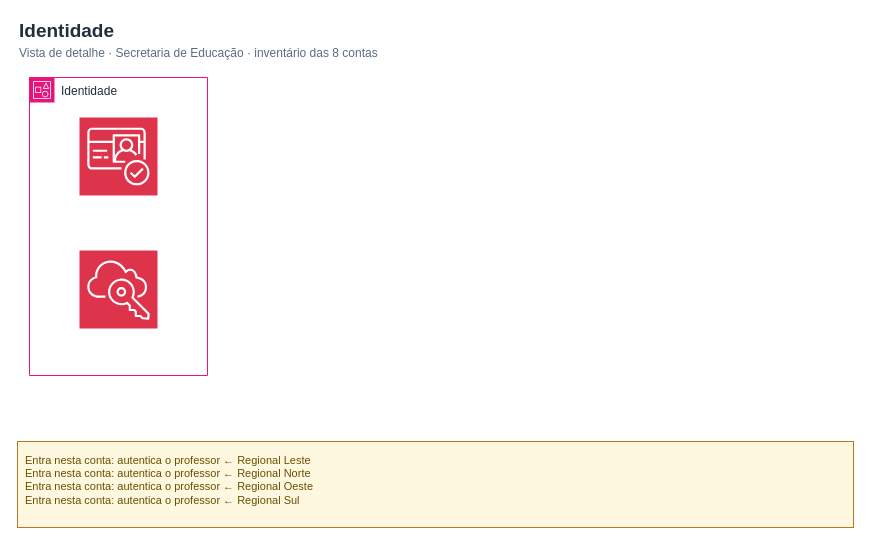
Some shapes in this 871 by 545 pixel diagram are drawn without their labels. Each missing label, with the centre of its shape:
"Cognito · portal do aluno" belongs at (x=118, y=156).
"IAM Identity Center" belongs at (x=118, y=289).
